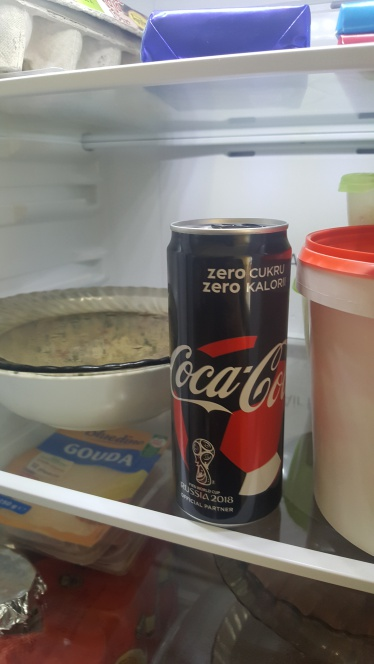colazero: (155, 205, 315, 552)
